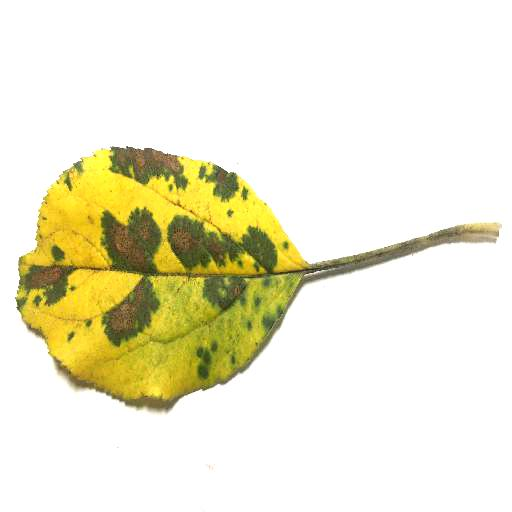Brown_Spot: (109, 149, 184, 174), (173, 233, 227, 263), (116, 226, 150, 268), (108, 287, 139, 332), (21, 269, 67, 287), (213, 167, 228, 184), (231, 289, 243, 299)
